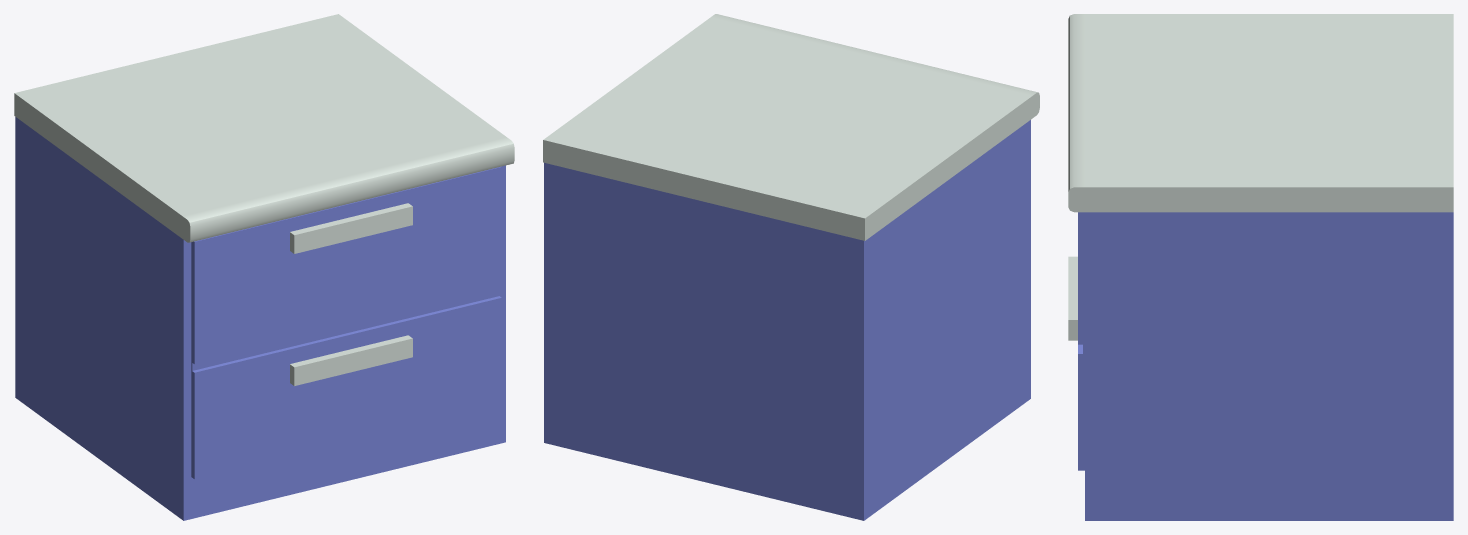
Rendered from Table2.fbx.
The picture shows the model from 3 angles, left to right: view 1: azimuth 30°, elevation 25°; view 2: azimuth 150°, elevation 25°; view 3: azimuth 270°, elevation 25°; orthographic projection. The views are drawn at different scales.
Parts seen in each view (by area): view 1: Cube.009, Cube.010, Cube.011; view 2: Cube.009; view 3: Cube.009, Cube.011.
Boxes of the visible parts, x1,y1,x2,y2 form: Cube.009: (14, 14, 514, 520); Cube.010: (290, 203, 412, 253); Cube.011: (290, 335, 412, 385); Cube.009: (543, 14, 1039, 520); Cube.009: (1068, 14, 1453, 520); Cube.011: (1068, 256, 1077, 340).
Bounding box in the file's own units: 111 × 100 × 105.
